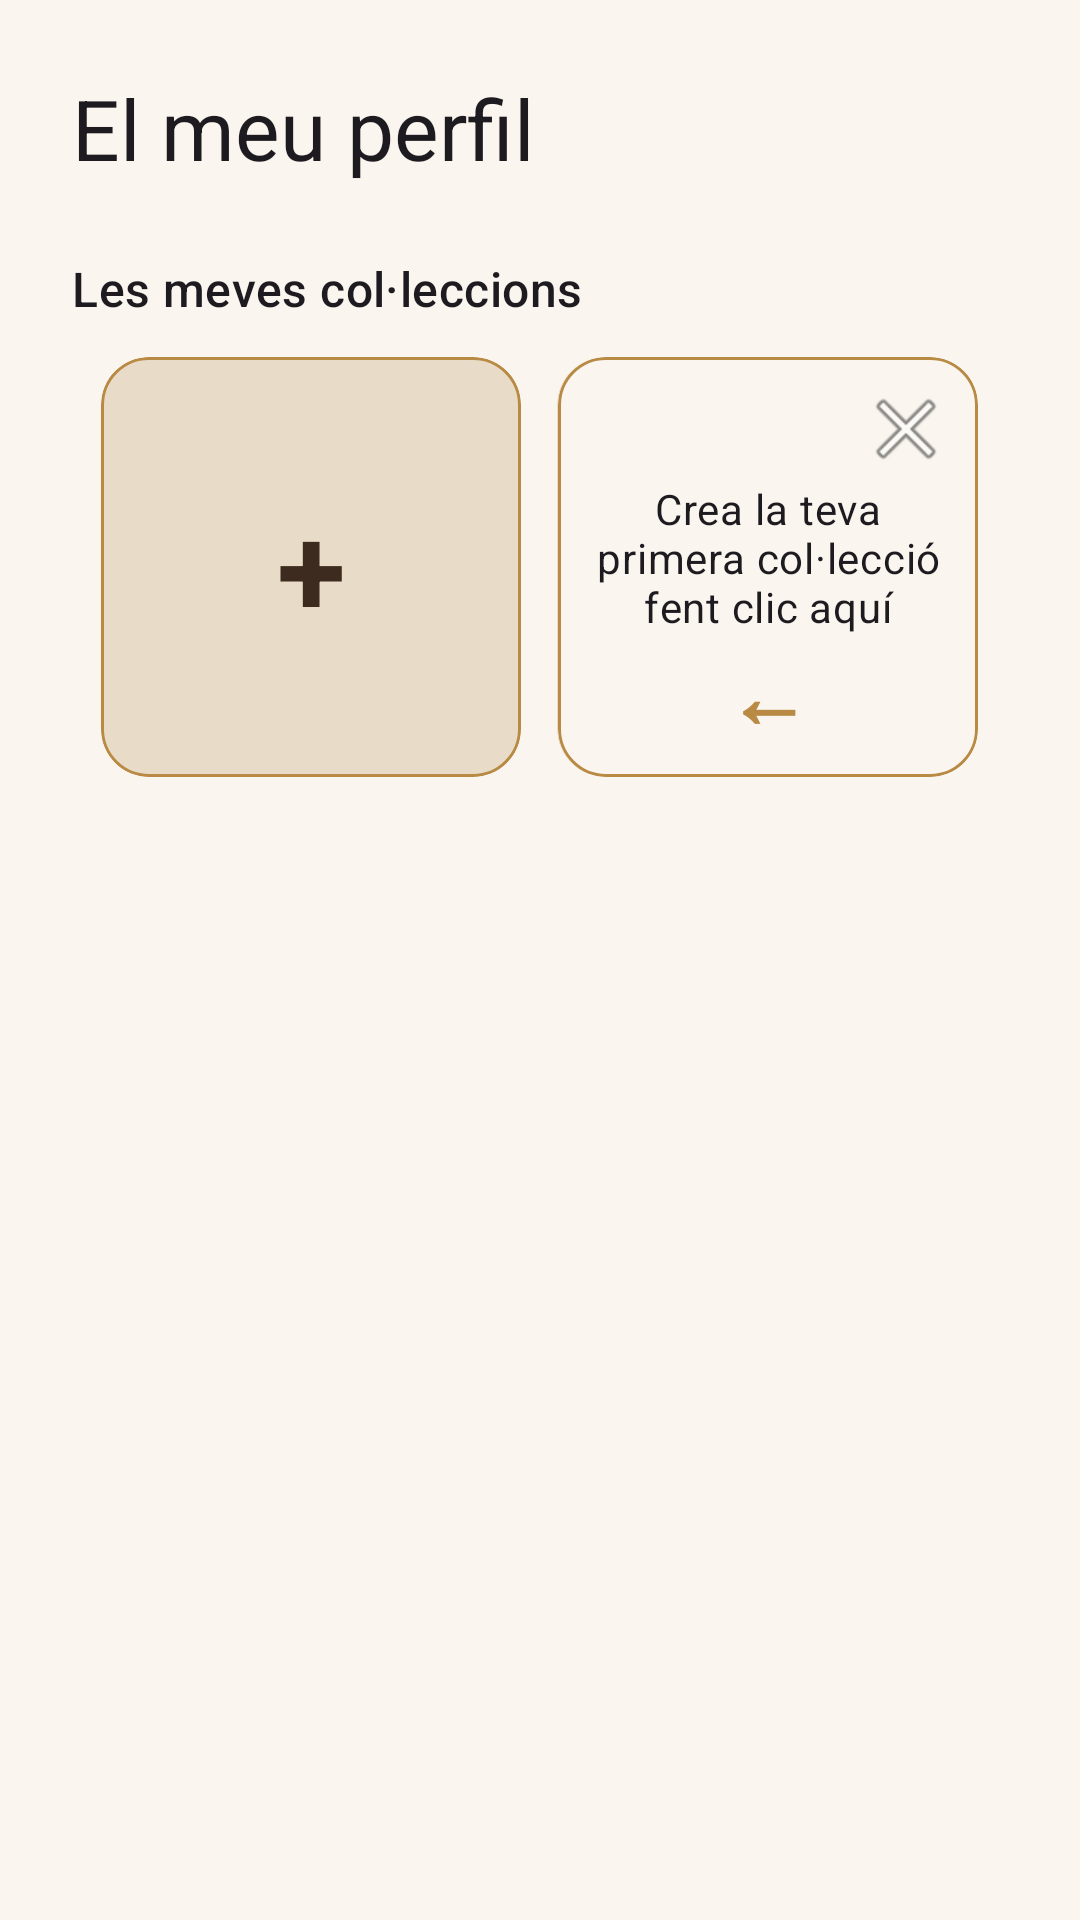

Icons on this 1080 × 1920 Android screen, each with the point to tap as [x,y]:
Tancar: [906,429]
